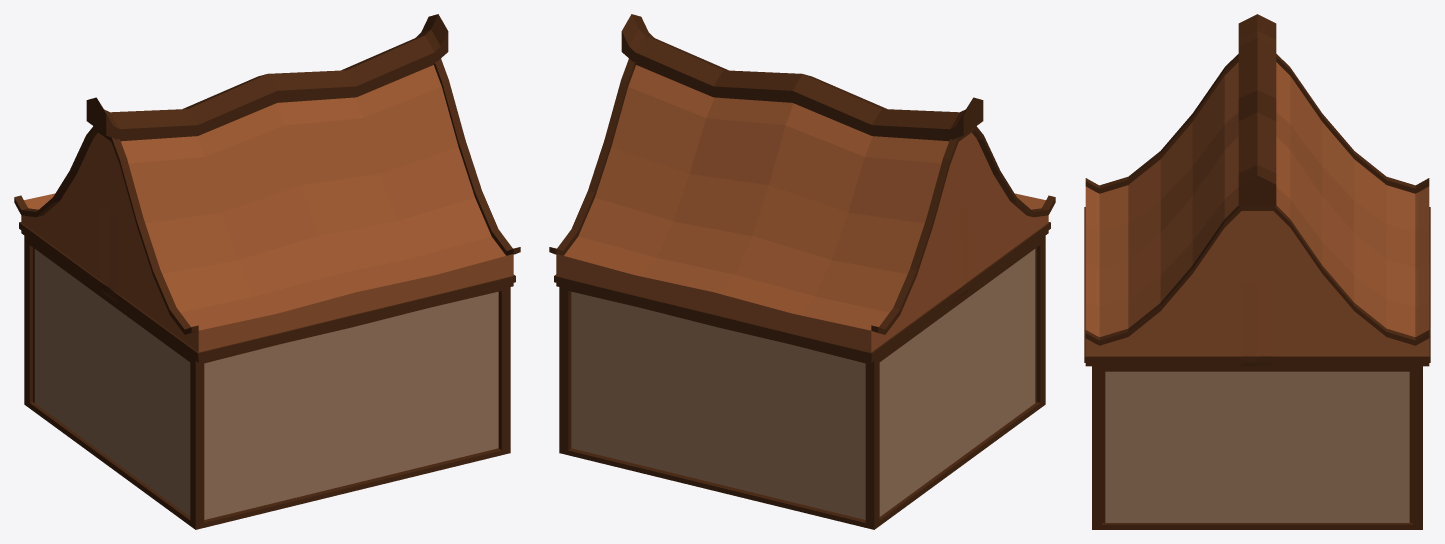
File: obj_chinese_house.fbx
3 views of the same model, side by side, from view 1: azimuth 30°, elevation 25°; view 2: azimuth 150°, elevation 25°; view 3: azimuth 270°, elevation 25° (orthographic). The views are drawn at different scales.
Parts seen in each view (by area): view 1: ChineseOderJapaneseHouse; view 2: ChineseOderJapaneseHouse; view 3: ChineseOderJapaneseHouse.
Boxes of the visible parts, x1,y1,x2,y2 form: ChineseOderJapaneseHouse: (14,14,520,529); ChineseOderJapaneseHouse: (549,14,1055,529); ChineseOderJapaneseHouse: (1084,14,1430,529).
Bounding box in the file's own units: 19.86 × 20.71 × 18.02.
